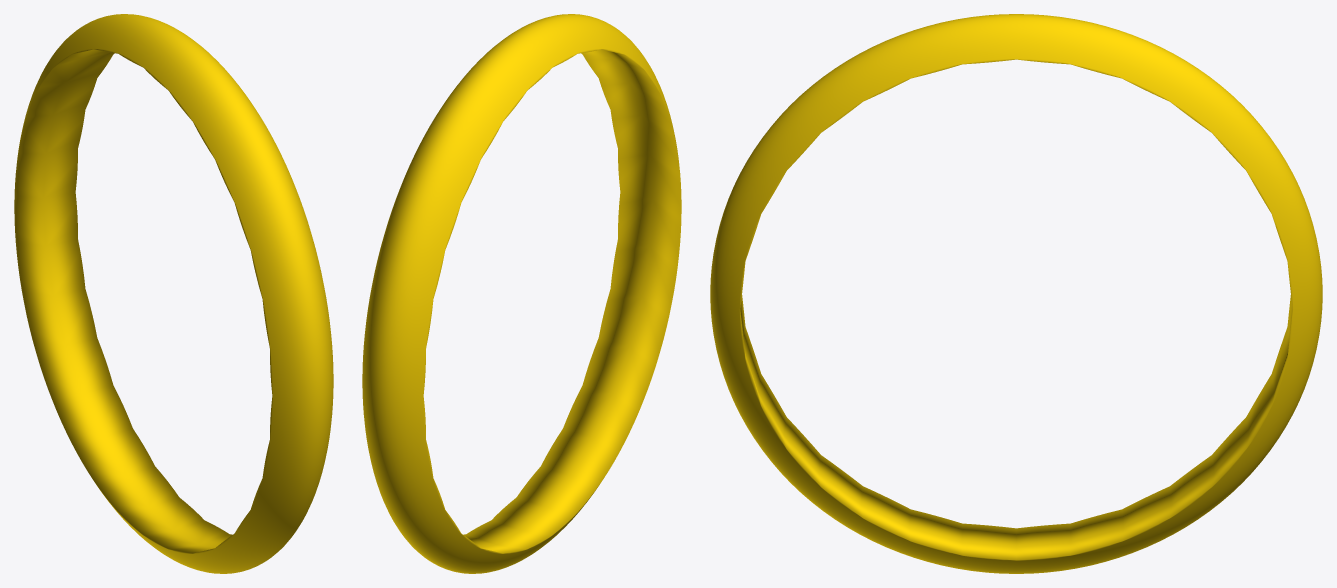
The model's file is unaze99.glb.
The picture shows the model from 3 angles, left to right: view 1: azimuth 30°, elevation 25°; view 2: azimuth 150°, elevation 25°; view 3: azimuth 270°, elevation 25°; orthographic projection. The views are drawn at different scales.
Visible parts, largest first — view 1: Sphere; view 2: Sphere; view 3: Sphere.
Boxes of the visible parts, x1=… form: Sphere: x1=14, y1=14, x2=333, y2=573; Sphere: x1=362, y1=14, x2=681, y2=573; Sphere: x1=710, y1=14, x2=1322, y2=573.
Bounding box in the file's own units: 0.2492 × 1.97 × 1.97.
